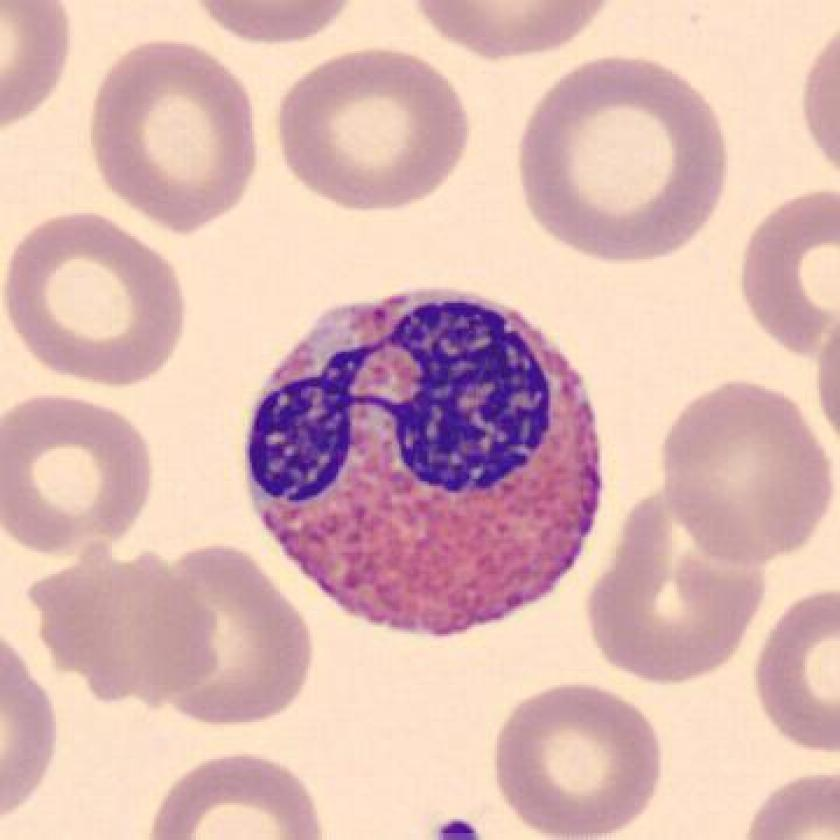eosinophil: (230, 276, 610, 649)
